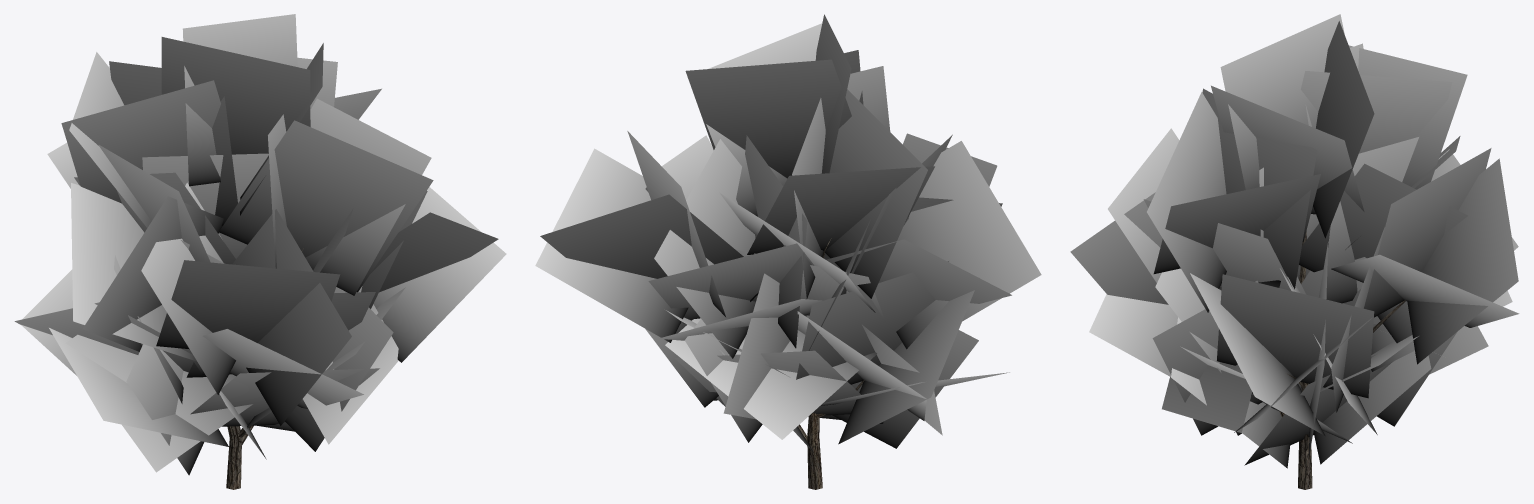
Rendered from tree5B.fbx.
The picture shows the model from 3 angles, left to right: view 1: azimuth 30°, elevation 25°; view 2: azimuth 150°, elevation 25°; view 3: azimuth 270°, elevation 25°; orthographic projection.
Visible parts, largest first — view 1: tree5B_leafs, tree5B_leafs_flip, tree5B_trunk; view 2: tree5B_leafs, tree5B_leafs_flip, tree5B_trunk; view 3: tree5B_leafs, tree5B_leafs_flip, tree5B_trunk.
Part boxes in pixels (x1,y1,x2,y2): tree5B_leafs: [14, 14, 506, 474]; tree5B_leafs_flip: [19, 14, 496, 473]; tree5B_trunk: [226, 248, 303, 489]; tree5B_leafs: [535, 14, 1041, 452]; tree5B_leafs_flip: [538, 19, 1033, 450]; tree5B_trunk: [756, 238, 864, 489]; tree5B_leafs: [1070, 14, 1519, 468]; tree5B_leafs_flip: [1078, 16, 1517, 465]; tree5B_trunk: [1279, 231, 1405, 489].
Bounding box in the file's own units: 9.59 × 9.47 × 8.58.
